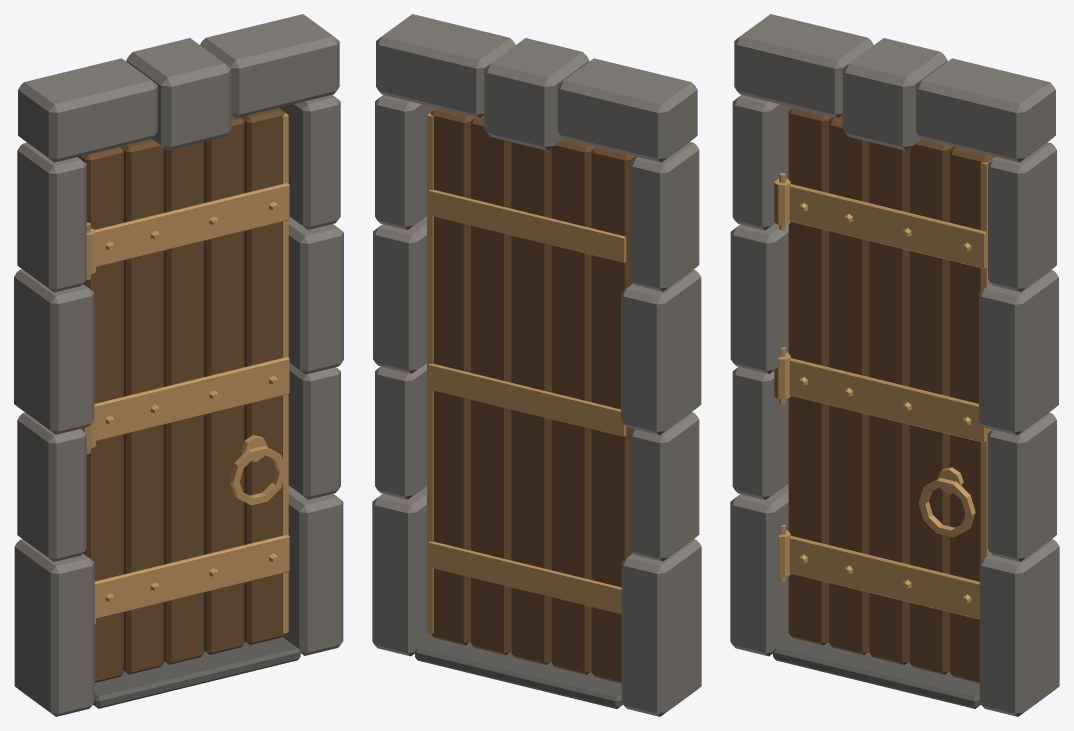
File: door.glb
3 views of the same model, side by side, from view 1: azimuth 30°, elevation 25°; view 2: azimuth 150°, elevation 25°; view 3: azimuth 330°, elevation 25° (orthographic).
Visible parts, largest first — view 1: door, jamb_l, jamb_r, lintel, bronze_bands, threshold, ring_handle, hinges, rivets; view 2: door, jamb_l, jamb_r, lintel, bronze_bands, threshold; view 3: door, jamb_r, jamb_l, lintel, bronze_bands, threshold, hinges, ring_handle, rivets.
Part boxes in pixels (x1=…): door: x1=78, y1=108, x2=284, y2=682; jamb_l: x1=14, y1=142, x2=94, y2=716; jamb_r: x1=279, y1=95, x2=343, y2=655; lintel: x1=18, y1=14, x2=339, y2=162; bronze_bands: x1=95, y1=110, x2=289, y2=633; threshold: x1=93, y1=637, x2=300, y2=708; ring_handle: x1=229, y1=435, x2=286, y2=505; hinges: x1=81, y1=222, x2=95, y2=624; rivets: x1=105, y1=202, x2=277, y2=602; door: x1=430, y1=108, x2=637, y2=683; jamb_l: x1=621, y1=142, x2=701, y2=716; jamb_r: x1=372, y1=95, x2=436, y2=656; lintel: x1=376, y1=14, x2=697, y2=162; bronze_bands: x1=427, y1=110, x2=626, y2=633; threshold: x1=415, y1=637, x2=622, y2=708; door: x1=788, y1=107, x2=995, y2=683; jamb_r: x1=979, y1=142, x2=1059, y2=716; jamb_l: x1=730, y1=95, x2=792, y2=656; lintel: x1=734, y1=14, x2=1055, y2=162; bronze_bands: x1=789, y1=157, x2=995, y2=619; threshold: x1=773, y1=637, x2=980, y2=708; hinges: x1=774, y1=173, x2=790, y2=582; ring_handle: x1=918, y1=467, x2=975, y2=537; rivets: x1=799, y1=202, x2=971, y2=603.
Size of what is drawn, in the model's own units: 1 by 2 by 0.2547.
